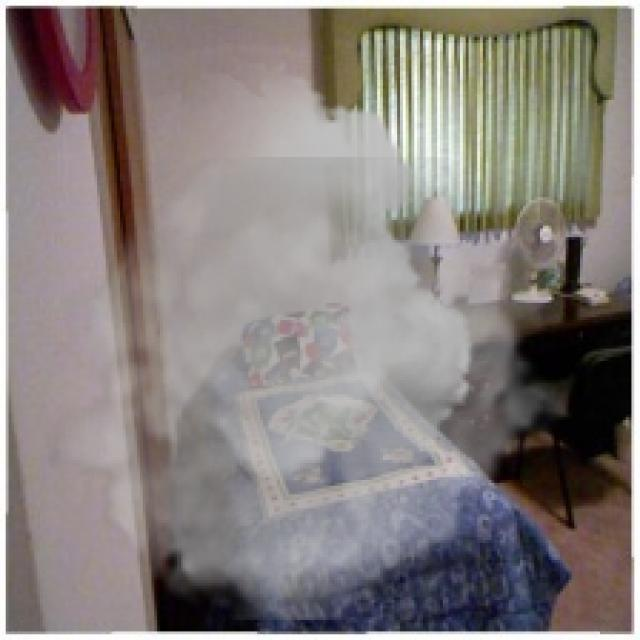Smoke: (46, 63, 568, 620)
